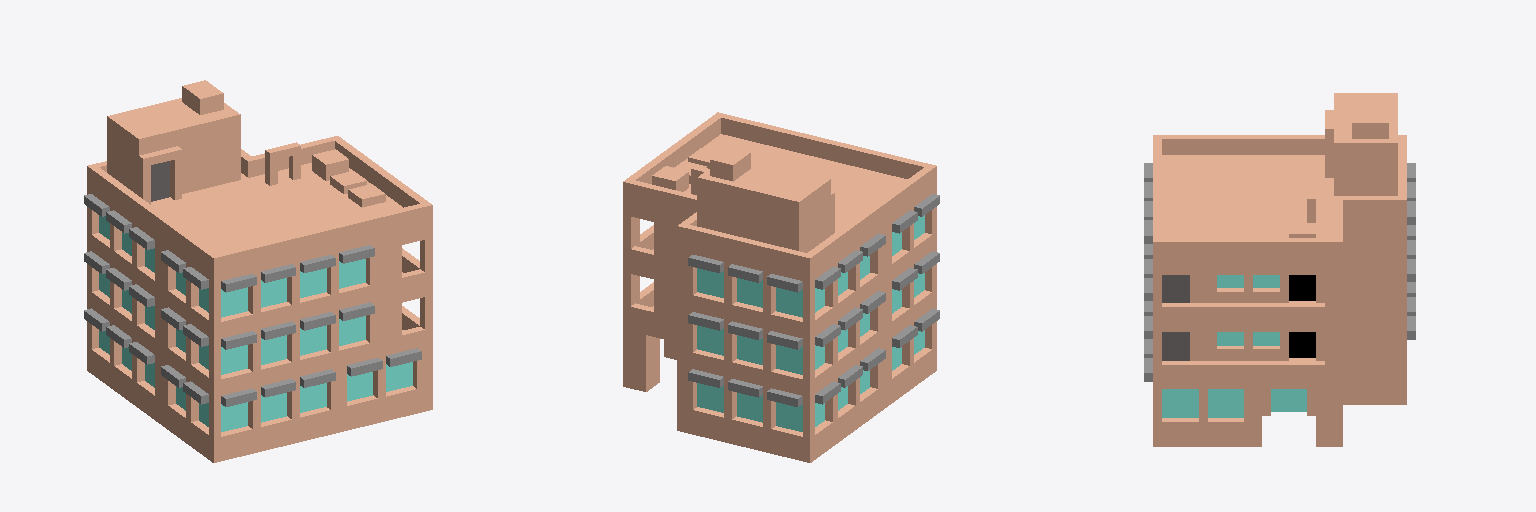
3 views of the same model, side by side, from view 1: azimuth 30°, elevation 25°; view 2: azimuth 150°, elevation 25°; view 3: azimuth 270°, elevation 25° (orthographic).
Size of the model in its own units: 29 by 33 by 30.
Materials: 1 (1 with a texture image).